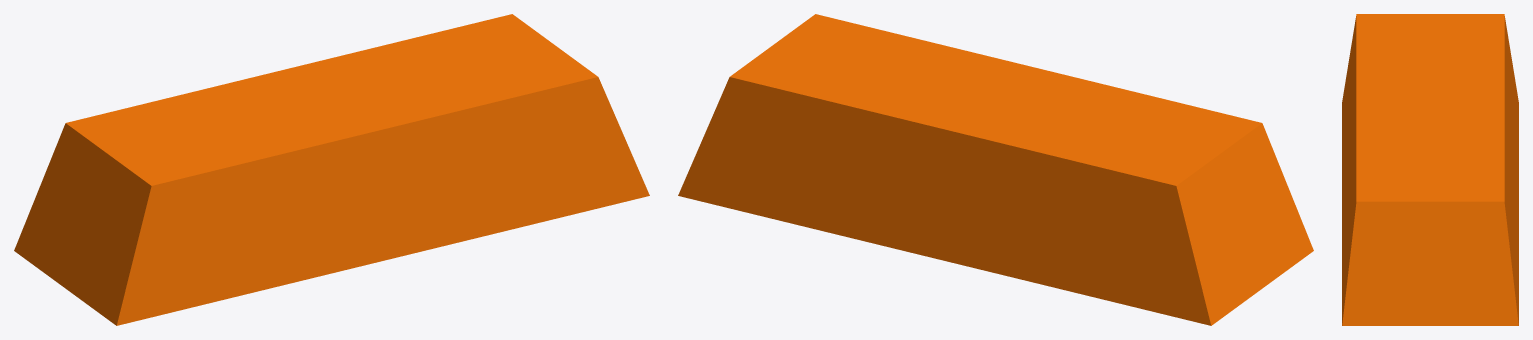
File: goldBar.FBX
The picture shows the model from 3 angles, left to right: view 1: azimuth 30°, elevation 25°; view 2: azimuth 150°, elevation 25°; view 3: azimuth 270°, elevation 25°; orthographic projection. The views are drawn at different scales.
Visible parts, largest first — view 1: Goldbar; view 2: Goldbar; view 3: Goldbar.
Part boxes in pixels (x1,y1,x2,y2): Goldbar: (14,14,649,325); Goldbar: (678,14,1313,325); Goldbar: (1342,14,1518,325).
Size of the model in its own units: 0.3 by 0.0663 by 0.1.
